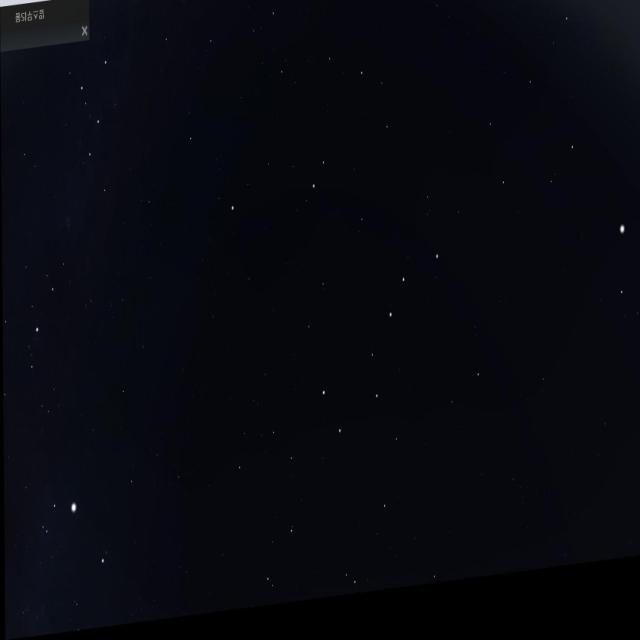cassiopeia: (74, 17, 132, 206)
ursa_major: (310, 248, 442, 459)
